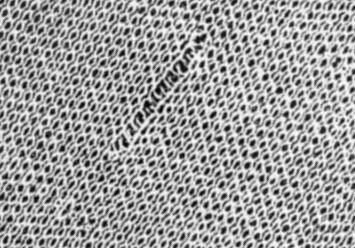slub: (107, 30, 210, 156)
